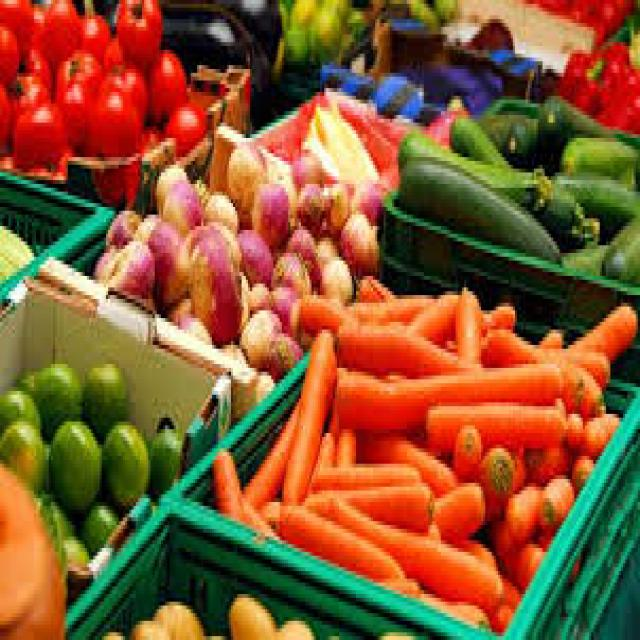organic waste: (308, 486, 502, 606), (397, 130, 596, 242), (397, 157, 558, 257), (330, 364, 558, 429), (161, 0, 267, 107), (280, 326, 335, 502), (273, 502, 403, 575), (333, 318, 479, 376), (424, 399, 561, 452), (239, 387, 301, 502), (303, 479, 430, 533), (545, 168, 638, 234), (187, 226, 240, 341), (182, 0, 279, 61), (310, 100, 380, 180), (356, 429, 451, 487), (46, 418, 100, 510), (51, 46, 99, 149), (534, 92, 604, 161), (566, 299, 638, 360), (80, 81, 136, 157), (557, 126, 638, 176), (100, 418, 144, 506), (0, 418, 45, 502), (148, 215, 189, 306), (29, 356, 82, 426), (11, 100, 64, 168), (428, 479, 483, 544), (447, 111, 507, 165), (83, 360, 127, 433), (6, 72, 49, 146), (32, 0, 80, 65), (557, 46, 602, 115), (96, 57, 146, 115), (225, 138, 262, 215), (600, 215, 638, 288), (248, 180, 288, 249), (15, 8, 49, 88), (479, 437, 511, 521), (114, 0, 158, 61), (104, 241, 150, 299), (161, 172, 201, 238), (148, 46, 184, 119), (604, 15, 638, 92), (407, 288, 456, 341), (239, 306, 280, 368), (420, 586, 485, 625), (307, 464, 420, 486), (161, 96, 204, 153), (146, 422, 180, 494), (339, 207, 377, 268), (483, 326, 543, 364), (335, 295, 434, 318), (454, 280, 481, 364), (210, 444, 242, 514), (536, 471, 572, 533), (297, 291, 354, 330), (543, 345, 608, 379), (225, 590, 273, 636), (78, 491, 116, 548), (102, 207, 148, 253), (504, 475, 538, 537), (38, 491, 64, 571), (163, 288, 208, 334), (269, 249, 310, 299), (197, 184, 237, 234), (0, 218, 32, 280), (301, 119, 335, 176), (0, 387, 38, 437), (551, 230, 606, 264), (284, 222, 316, 280), (238, 226, 272, 280), (151, 594, 199, 632), (305, 8, 339, 58), (204, 214, 238, 264), (500, 115, 536, 161), (240, 491, 276, 536), (451, 422, 479, 479), (322, 176, 350, 230), (348, 180, 380, 226), (318, 253, 350, 299), (265, 280, 297, 326), (295, 180, 322, 234), (582, 410, 616, 452), (530, 441, 572, 475), (447, 533, 494, 563), (153, 161, 182, 207), (604, 88, 638, 127), (78, 12, 108, 54), (269, 334, 299, 376), (479, 295, 513, 330), (47, 490, 74, 532), (470, 111, 502, 146), (309, 426, 335, 468), (290, 149, 320, 184), (0, 23, 17, 84), (93, 241, 121, 276), (55, 529, 87, 559), (98, 23, 116, 73), (335, 426, 356, 468), (352, 272, 390, 295), (130, 613, 166, 636), (288, 0, 318, 27), (0, 0, 30, 27), (0, 84, 11, 154), (483, 594, 507, 625), (282, 23, 305, 54), (136, 115, 159, 146), (276, 617, 312, 636), (383, 571, 418, 590), (496, 571, 515, 606), (564, 406, 580, 445), (248, 280, 265, 310), (534, 326, 557, 348), (572, 452, 589, 479), (11, 364, 34, 383), (320, 0, 347, 15), (314, 234, 332, 253), (422, 518, 436, 540), (100, 629, 118, 636)
